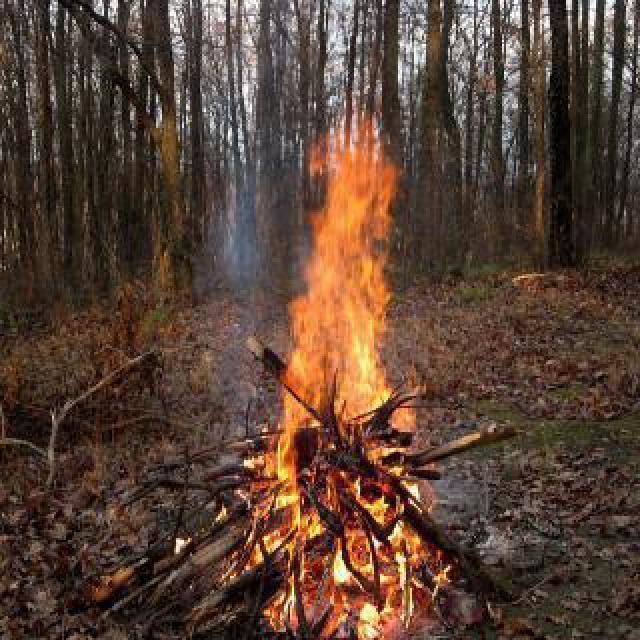Fire: (272, 118, 414, 546)
